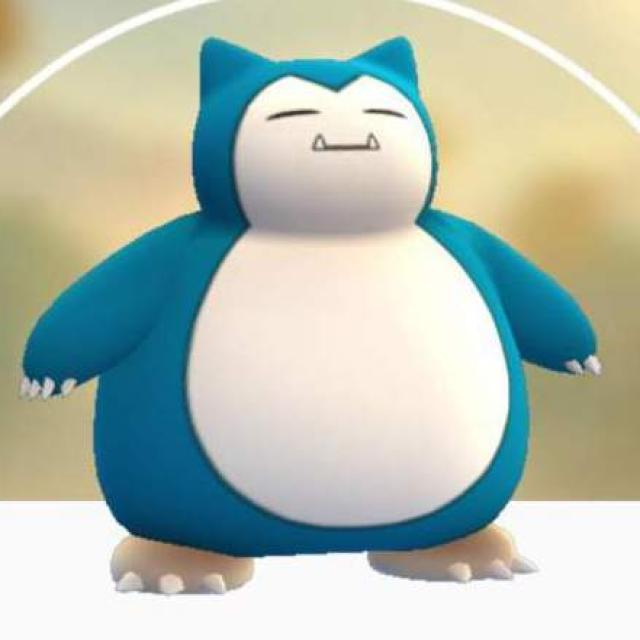Snorlax: (89, 33, 519, 586)
